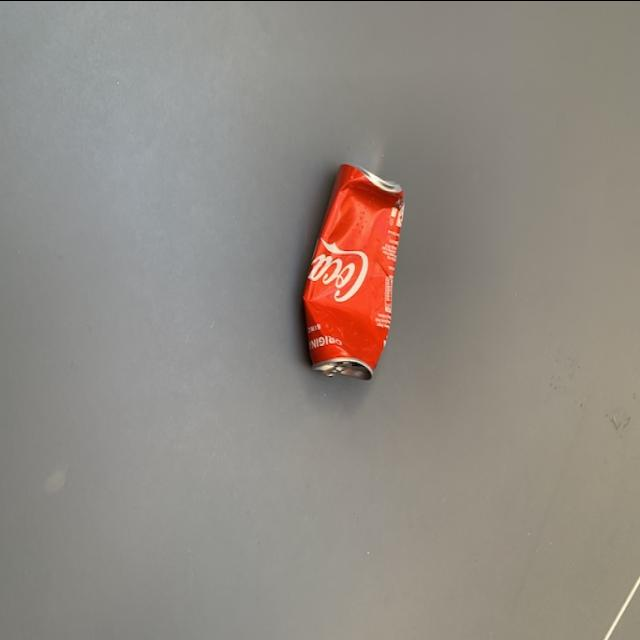Aluminum Can: (288, 145, 418, 383)
